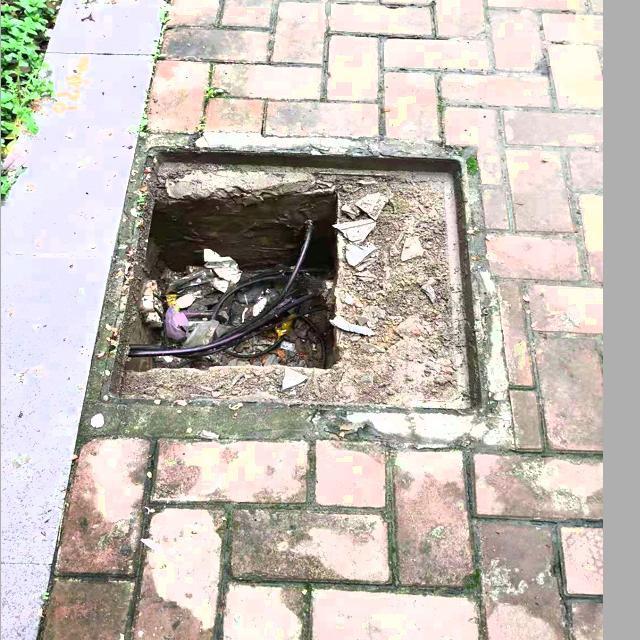broke: (93, 143, 493, 412)
